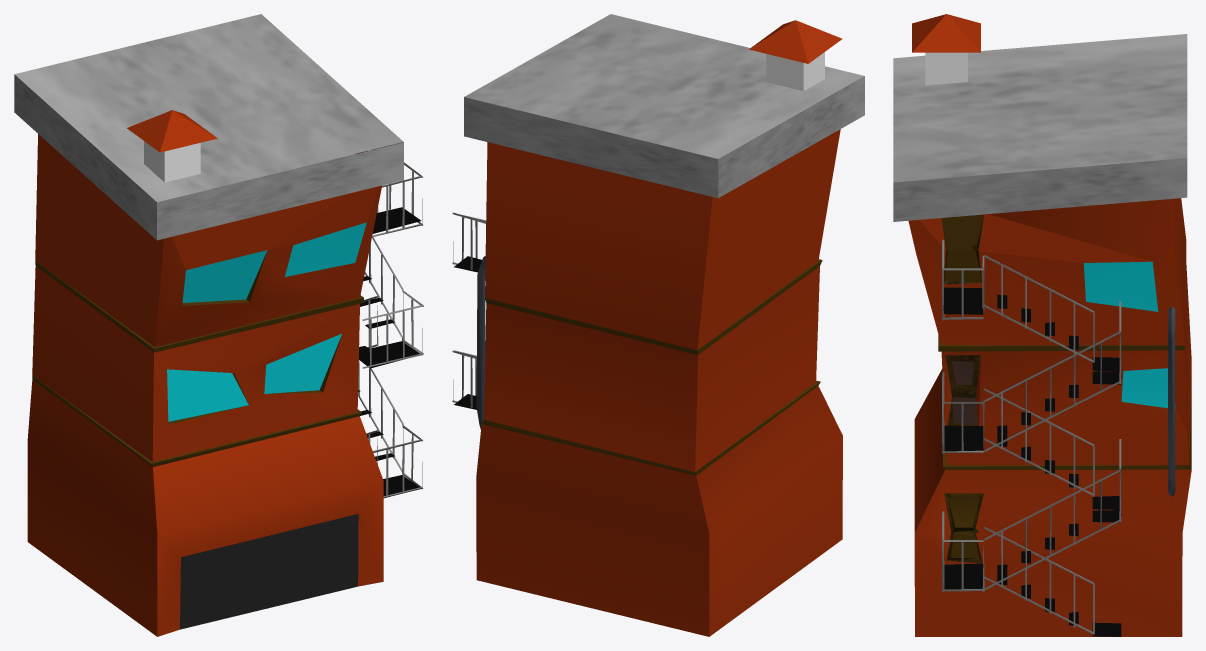
Rendered from PredioTorto-VermelhoBarrentoLOD1.fbx.
3 renders of one model, left to right at view 1: azimuth 30°, elevation 25°; view 2: azimuth 150°, elevation 25°; view 3: azimuth 270°, elevation 25°, orthographic. The views are drawn at different scales.
Visible parts, largest first — view 1: Predio3AndaresLOD1; view 2: Predio3AndaresLOD1; view 3: Predio3AndaresLOD1.
Part boxes in pixels (x1,y1,x2,y2): Predio3AndaresLOD1: [14, 14, 423, 636]; Predio3AndaresLOD1: [452, 14, 864, 636]; Predio3AndaresLOD1: [893, 14, 1191, 636].
Size of the model in its own units: 1035 by 1727 by 892.
